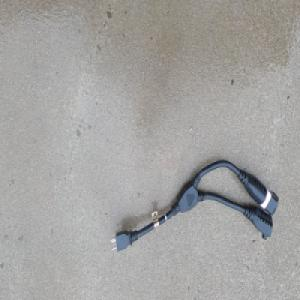Wire: (109, 157, 278, 251)
